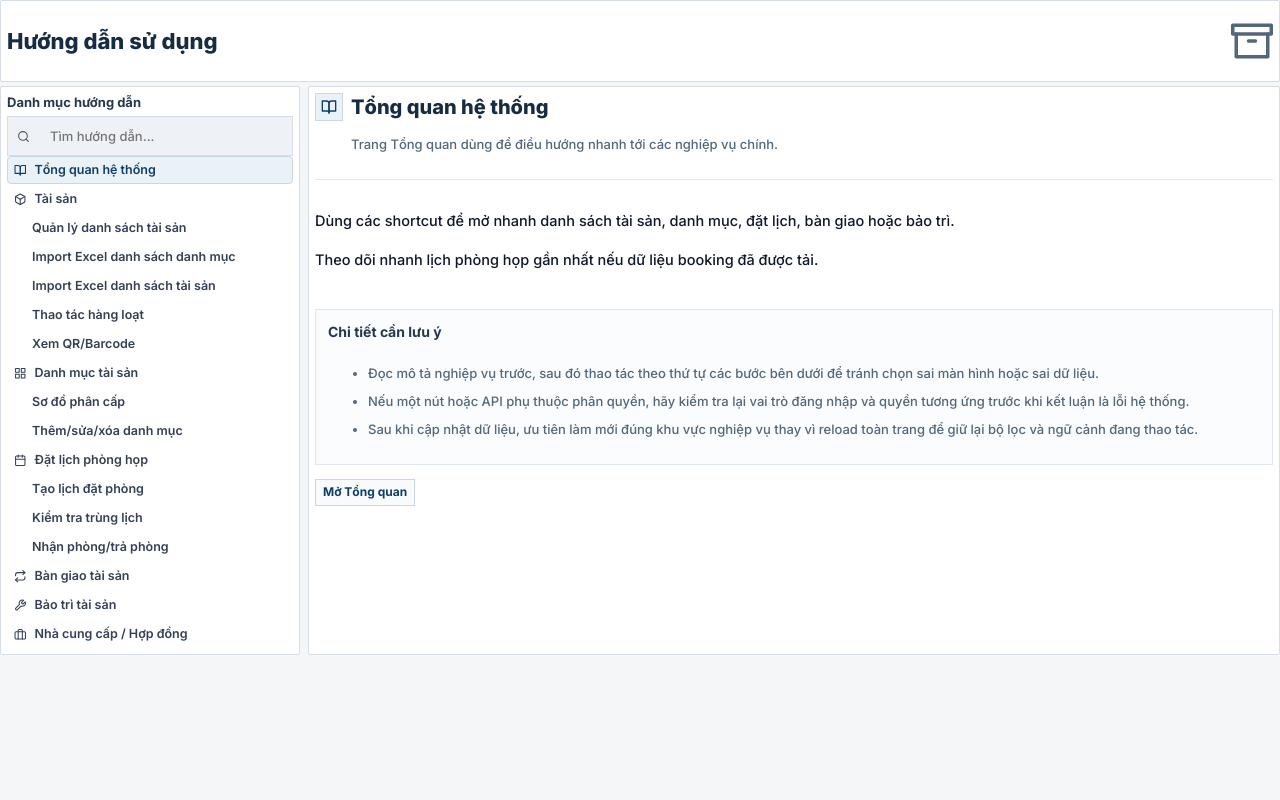
Test: misc UI coverage › searches and navigates help tree
Click the button "Tài sản".
click(56, 198)  # box [7,185,293,213]
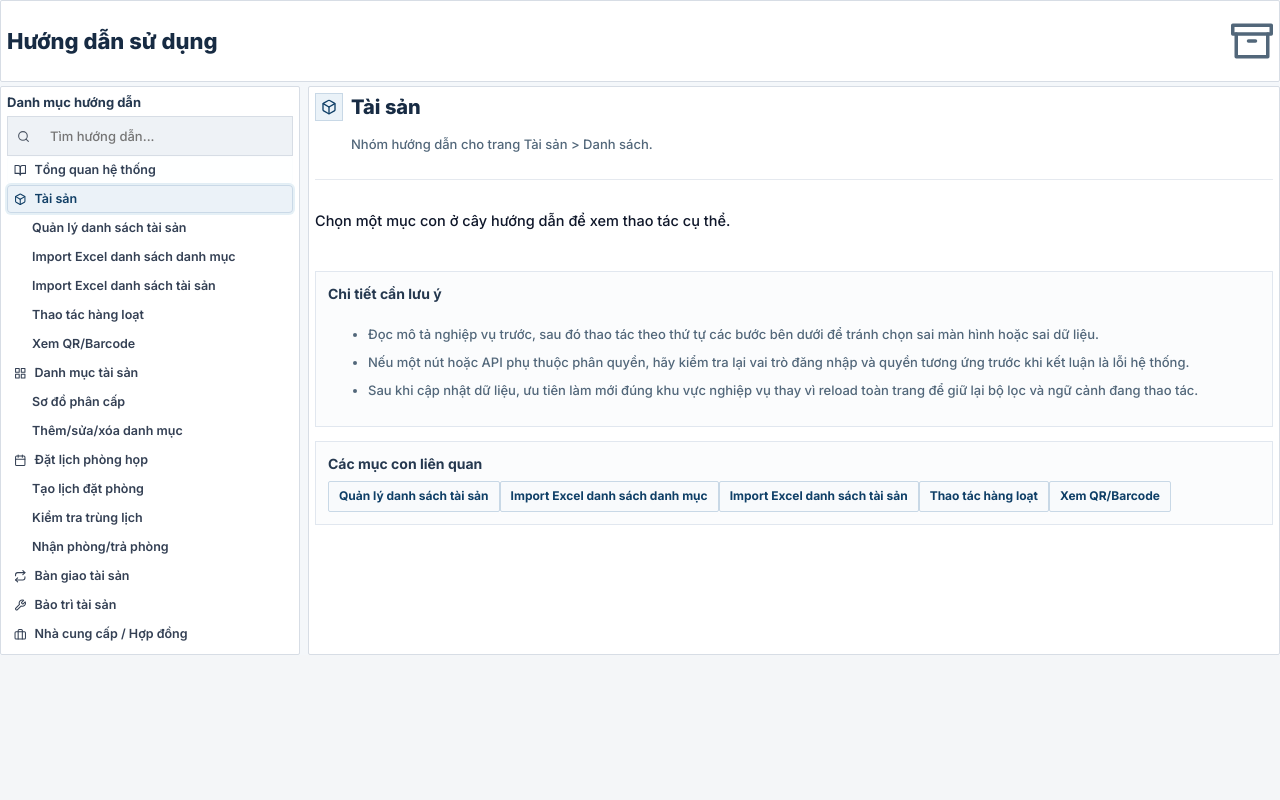
Click the button "Import Excel danh sách tài sản" below "Danh mục hướng dẫn".
click(159, 286)  # box [25,272,293,300]
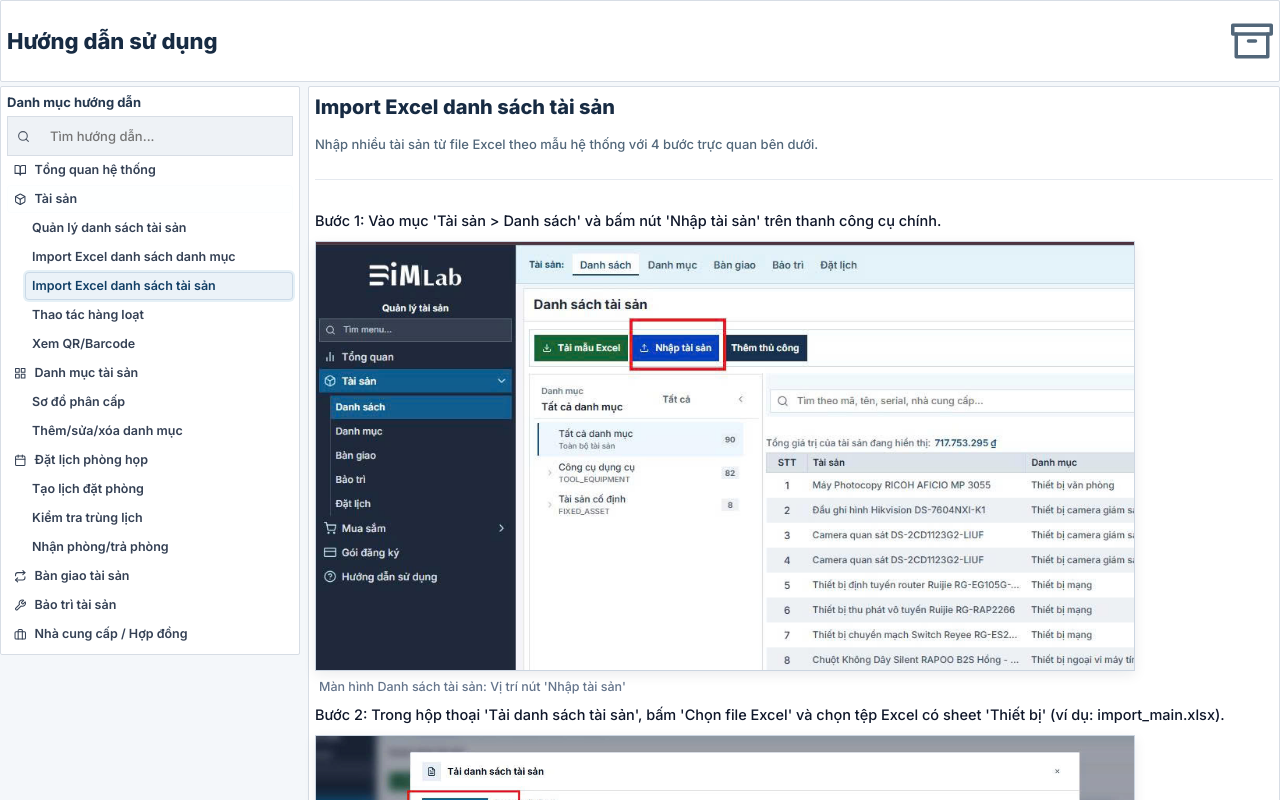
Expected: the heading "Import Excel danh sách tài sản" is shown, [315,95,615,119]
Type "không tồn tại" into the field with placeholder "Tìm hướng dẫn...".
click(156, 136); type("không tồn tại")  # box [36,117,277,155]
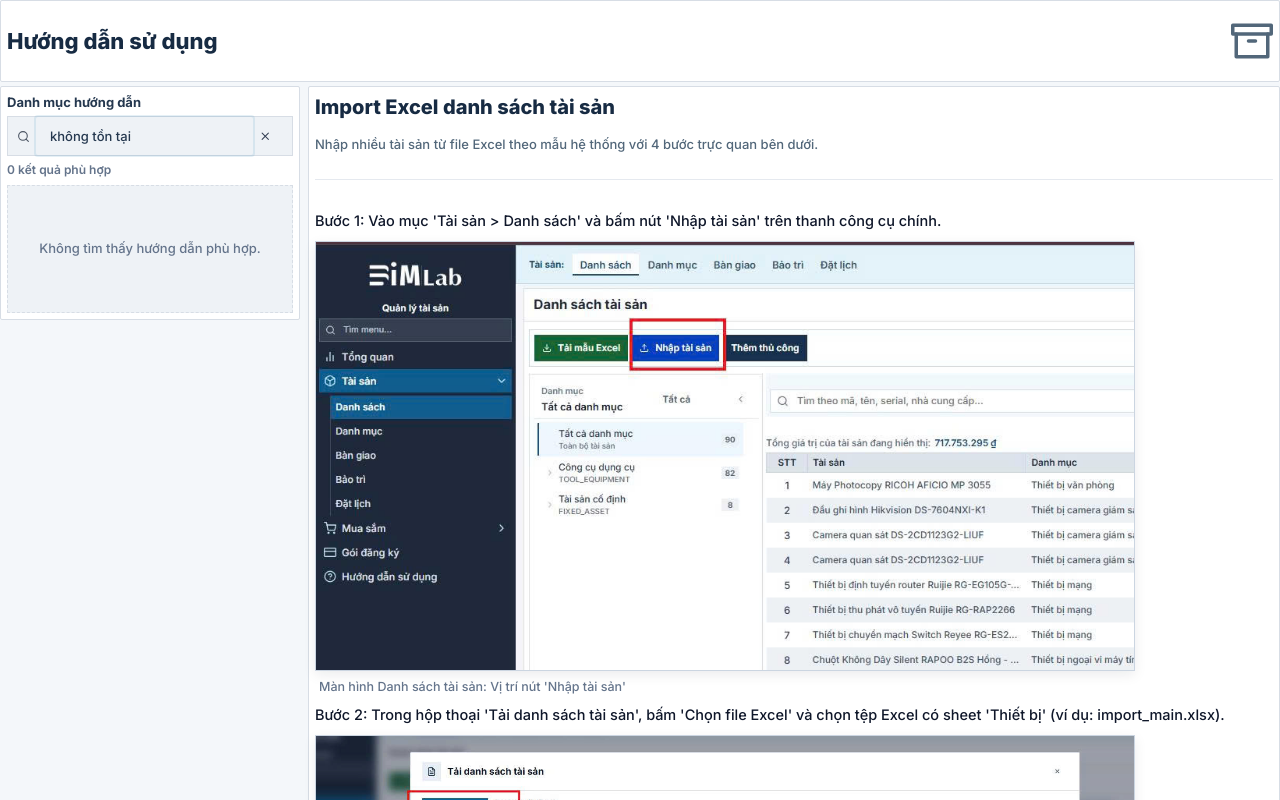
Expected: the text "Không tìm thấy hướng dẫn phù hợp." is shown, [7,185,293,313]
Click the button named "Xóa tìm kiếm".
click(271, 136)  # box [259,122,283,150]
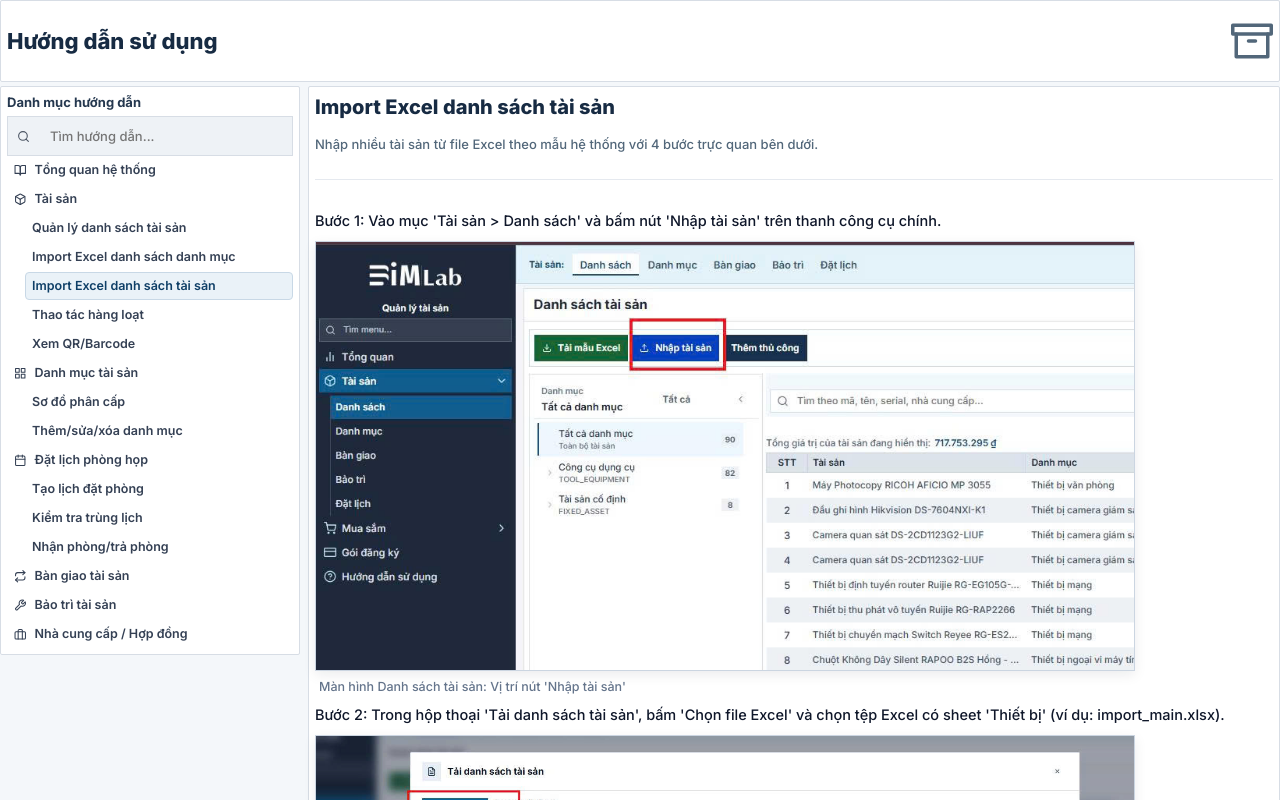
Expected: the button "Tổng quan hệ thống" is shown, [7,156,293,184]
